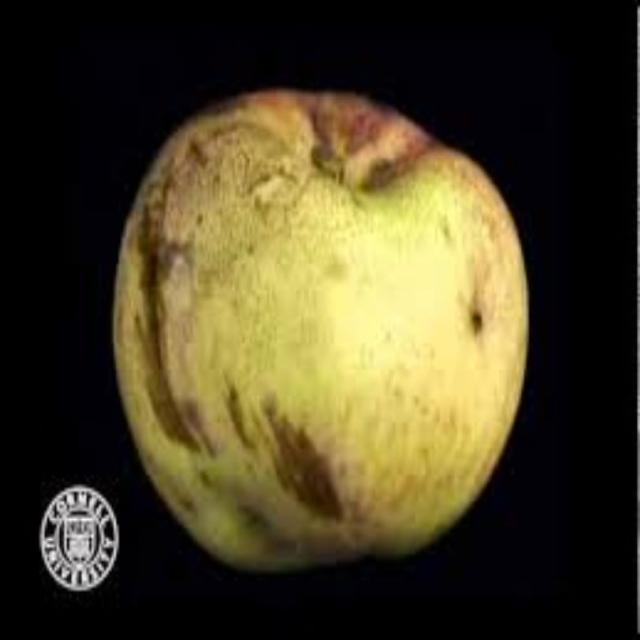Rotten Apple: (99, 67, 535, 590)
